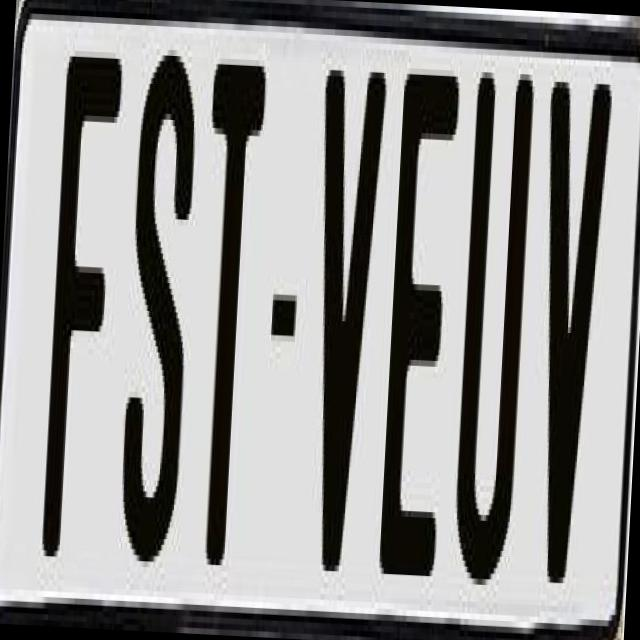E: (374, 74, 459, 612)
F: (42, 38, 130, 542)
S: (116, 37, 205, 580)
T: (188, 58, 270, 584)
U: (450, 60, 542, 592)
V: (300, 69, 394, 596), (520, 81, 611, 608)
